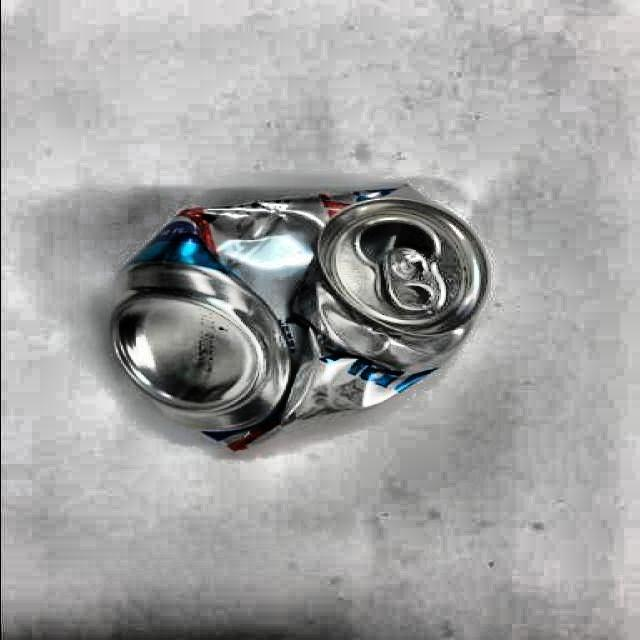metal: (109, 183, 492, 455)
